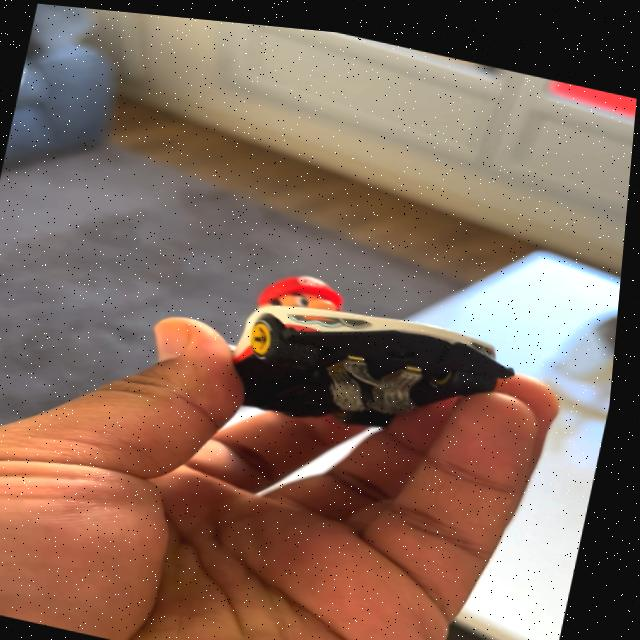mario: (198, 251, 542, 483)
